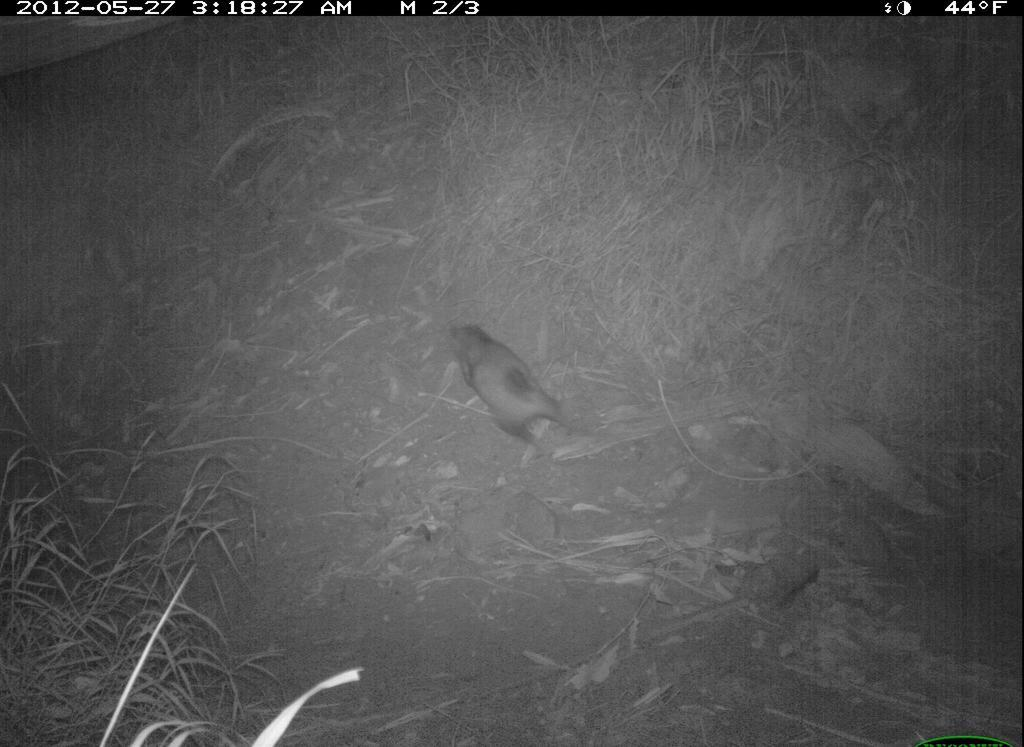opossum: (438, 310, 638, 464)
